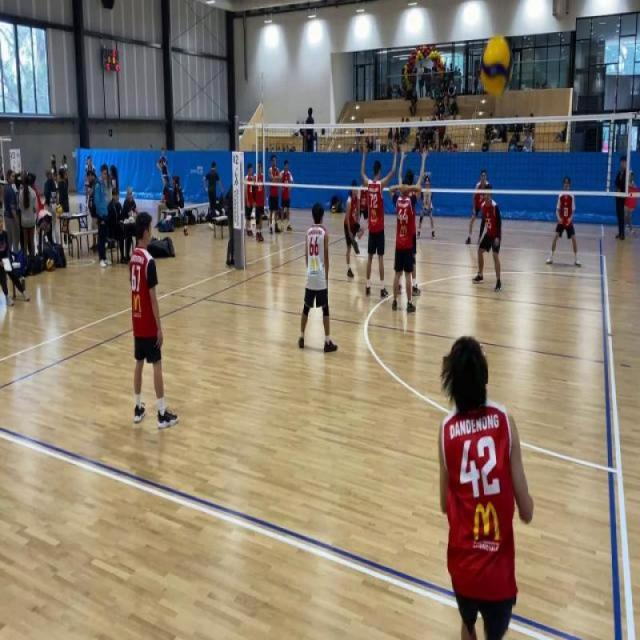volleyball: (478, 33, 515, 100), (46, 257, 54, 272), (56, 204, 63, 216), (183, 224, 189, 237), (331, 205, 336, 214), (156, 237, 162, 242), (56, 175, 60, 182), (150, 234, 153, 242), (159, 163, 163, 168)
